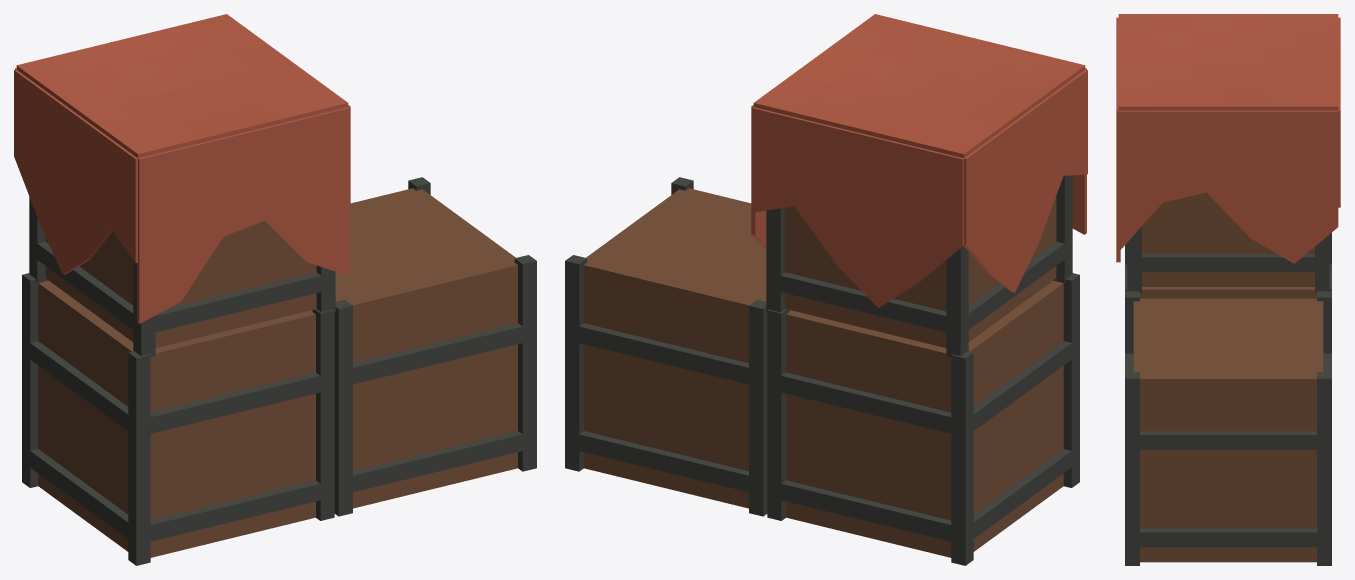
The model's file is tarp_crate_stack.glb.
3 renders of one model, left to right at view 1: azimuth 30°, elevation 25°; view 2: azimuth 150°, elevation 25°; view 3: azimuth 270°, elevation 25°, orthographic. The views are drawn at different scales.
Parts seen in each view (by area): view 1: tarp_crate_stack; view 2: tarp_crate_stack; view 3: tarp_crate_stack.
Boxes of the visible parts, x1,y1,x2,y2 form: tarp_crate_stack: (14, 14, 536, 565); tarp_crate_stack: (565, 14, 1087, 565); tarp_crate_stack: (1116, 14, 1340, 565).
Bounding box in the file's own units: 2 × 1.96 × 1.06.
